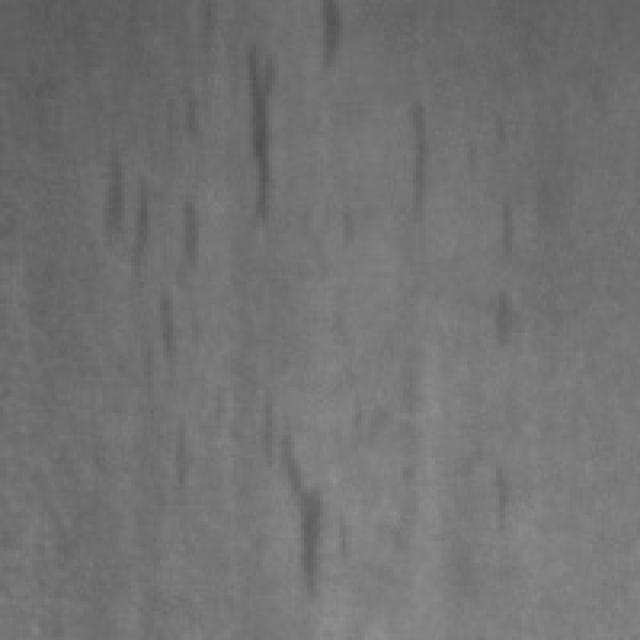inclusion: (83, 147, 211, 410), (256, 404, 378, 598), (227, 29, 301, 240), (390, 83, 448, 237), (314, 0, 362, 80), (486, 451, 525, 541), (496, 176, 534, 266), (493, 278, 528, 349)
